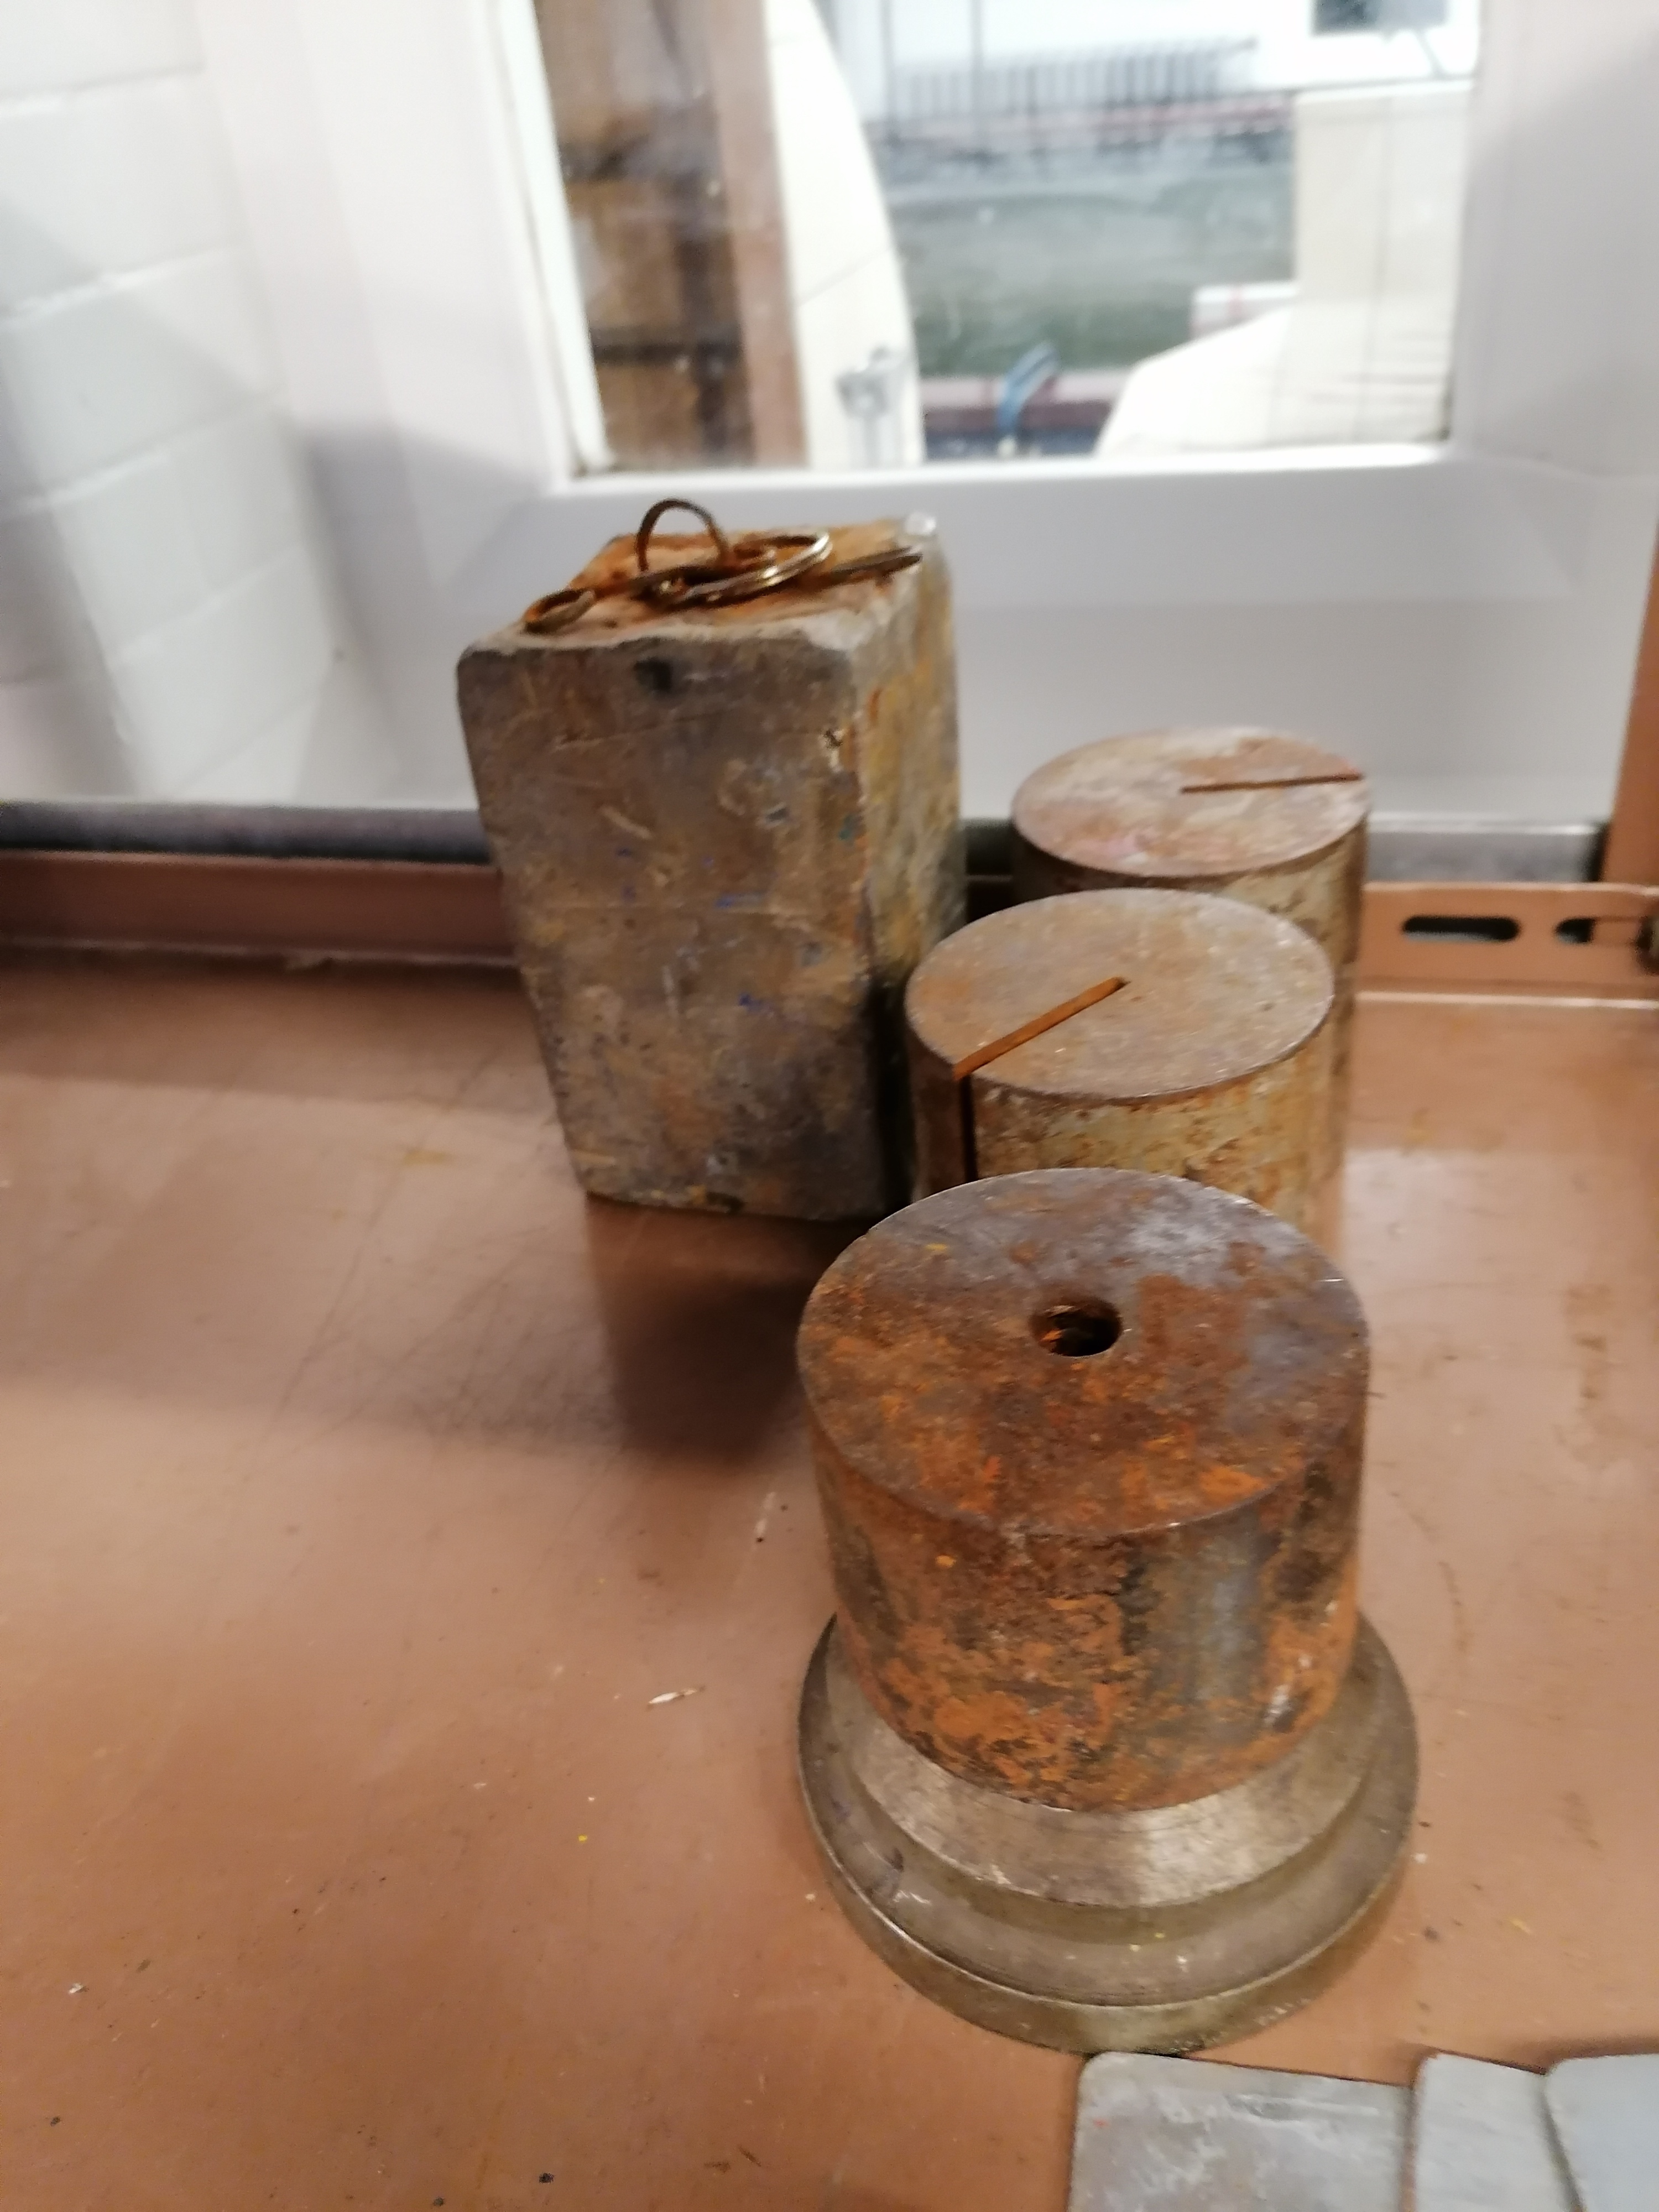lead_block: (793, 1167, 1417, 2055), (455, 491, 965, 1224), (897, 883, 1347, 1186), (1007, 719, 1384, 888)
